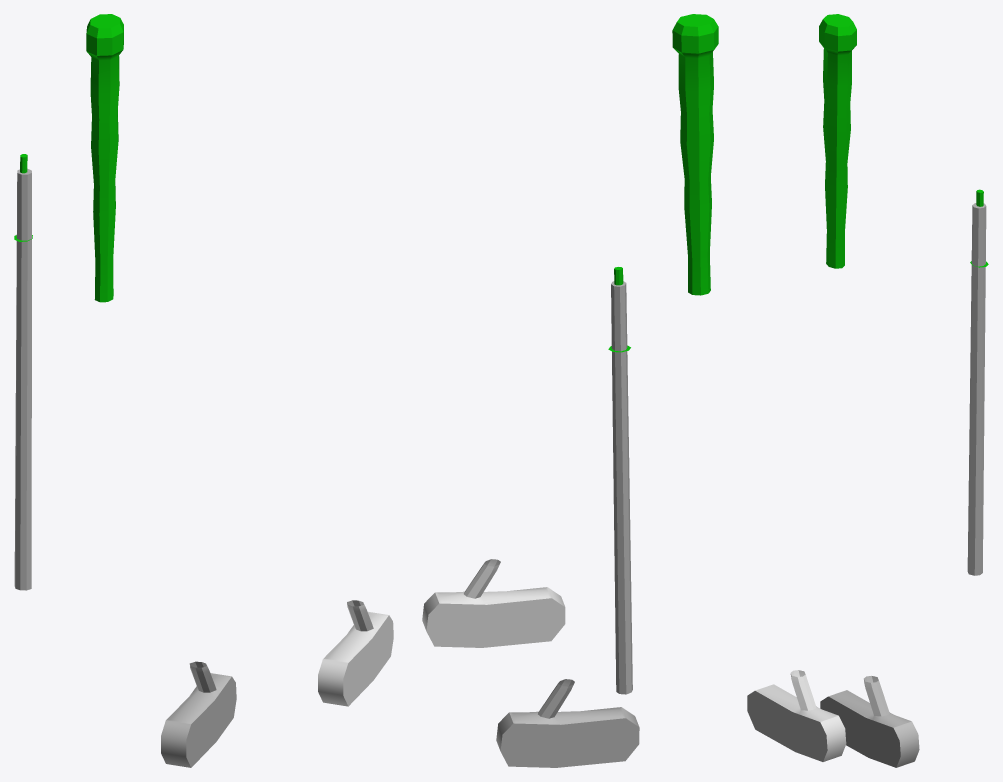
File: golf_clubs.fbx
3 views of the same model, side by side, from view 1: azimuth 30°, elevation 25°; view 2: azimuth 150°, elevation 25°; view 3: azimuth 270°, elevation 25° (orthographic). The views are drawn at different scales.
Parts seen in each view (by area): view 1: putter_handle, putter_head, putter_shaft, putter_head_ghost; view 2: putter_handle, putter_shaft, putter_head_ghost, putter_head; view 3: putter_handle, putter_head, putter_head_ghost, putter_shaft.
Boxes of the visible parts, x1,y1,x2,y2 form: putter_handle: (86,14,123,302); putter_head: (14,154,32,590); putter_shaft: (161,661,236,767); putter_head_ghost: (318,600,393,706); putter_handle: (672,14,718,295); putter_shaft: (496,679,639,767); putter_head_ghost: (422,559,565,647); putter_head: (608,267,632,694); putter_handle: (819,14,856,268); putter_head: (967,189,988,575); putter_head_ghost: (747,670,846,761); putter_shaft: (820,676,919,767).
Size of the model in its own units: 16.1 by 38.99 by 12.53.
